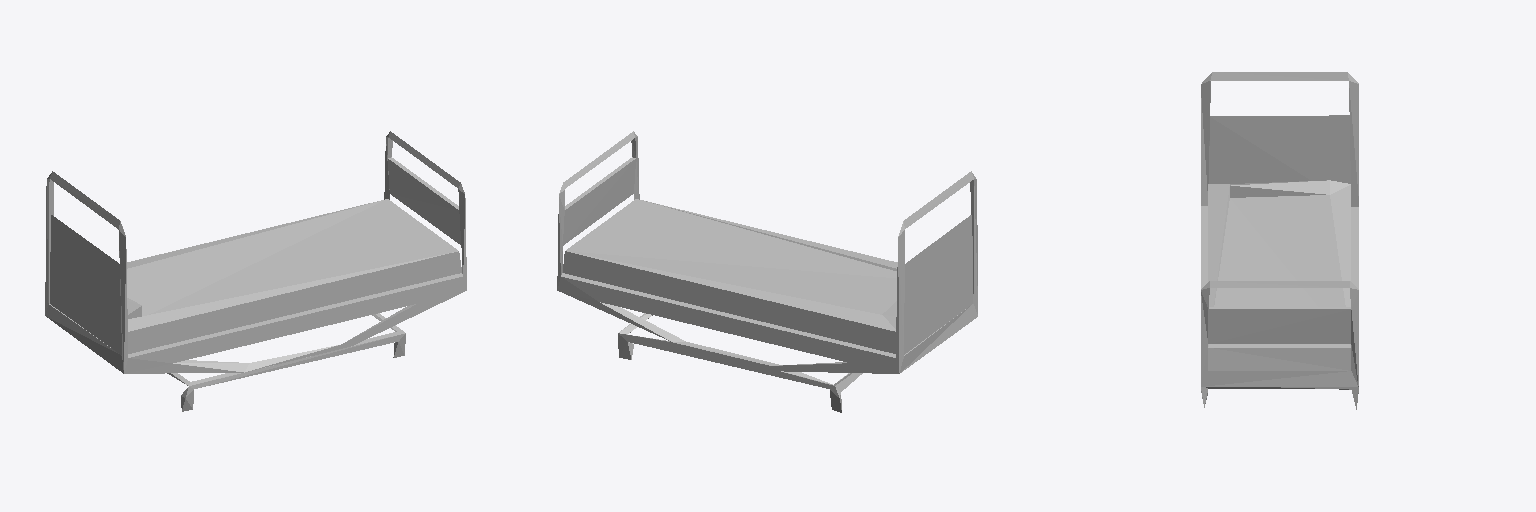
File: bed.obj
3 views of the same model, side by side, from view 1: azimuth 30°, elevation 25°; view 2: azimuth 150°, elevation 25°; view 3: azimuth 270°, elevation 25° (orthographic).
Visible parts, largest first — view 1: Cube_Cube.001; view 2: Cube_Cube.001; view 3: Cube_Cube.001.
Boxes of the visible parts, x1=… form: Cube_Cube.001: x1=45, y1=131, x2=466, y2=411; Cube_Cube.001: x1=557, y1=131, x2=977, y2=412; Cube_Cube.001: x1=1201, y1=72, x2=1358, y2=409.
Bounding box in the file's own units: 1.75 × 0.9877 × 0.6993.